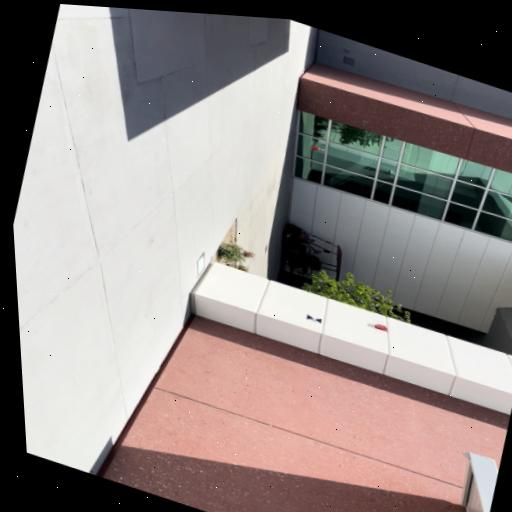target6: (306, 314, 320, 324)
